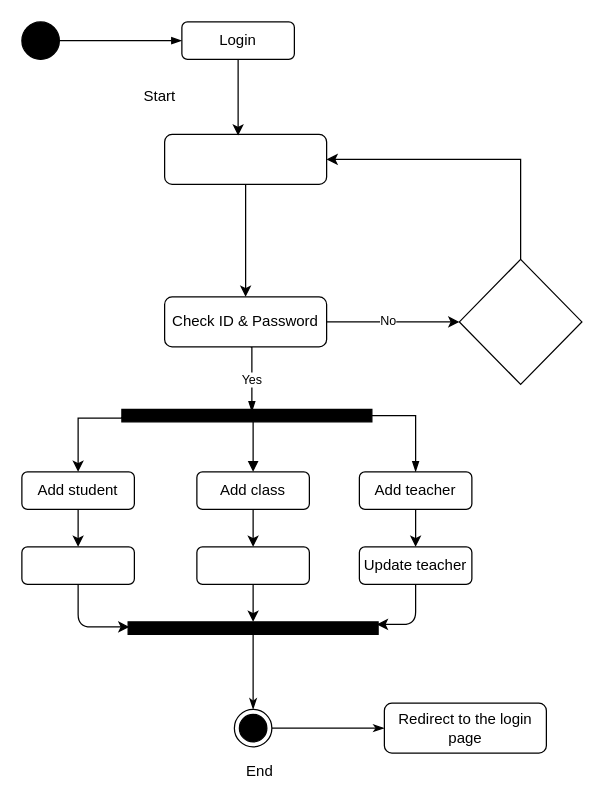
Image size: 604x806. Some labels were removed from this diagram. The shapes that lost their labels are listed below. From the top down, each one's box as (x1, y1, x2, y2) in pixels, then its label:
(163, 133, 327, 184): Login ID & Password
(458, 258, 582, 384): Invalid ID & Password
(21, 546, 134, 584): Update student
(196, 546, 309, 584): Update class
